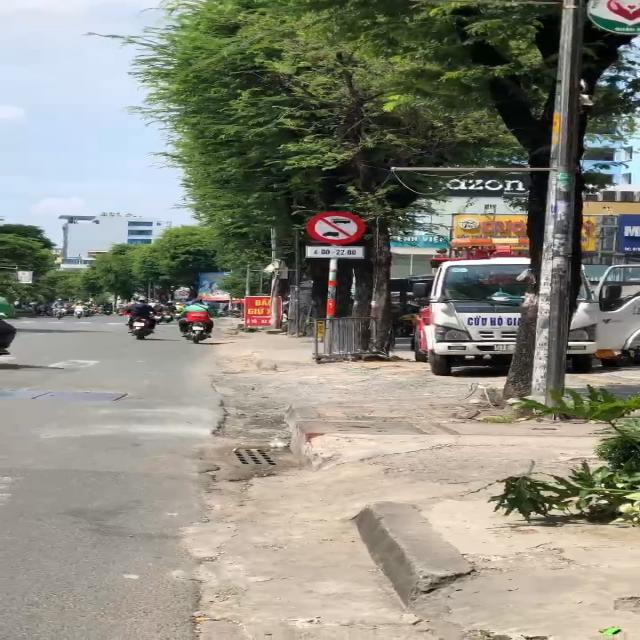Bien bao cam xe oto khach va xe oto tai: (306, 207, 366, 246)
